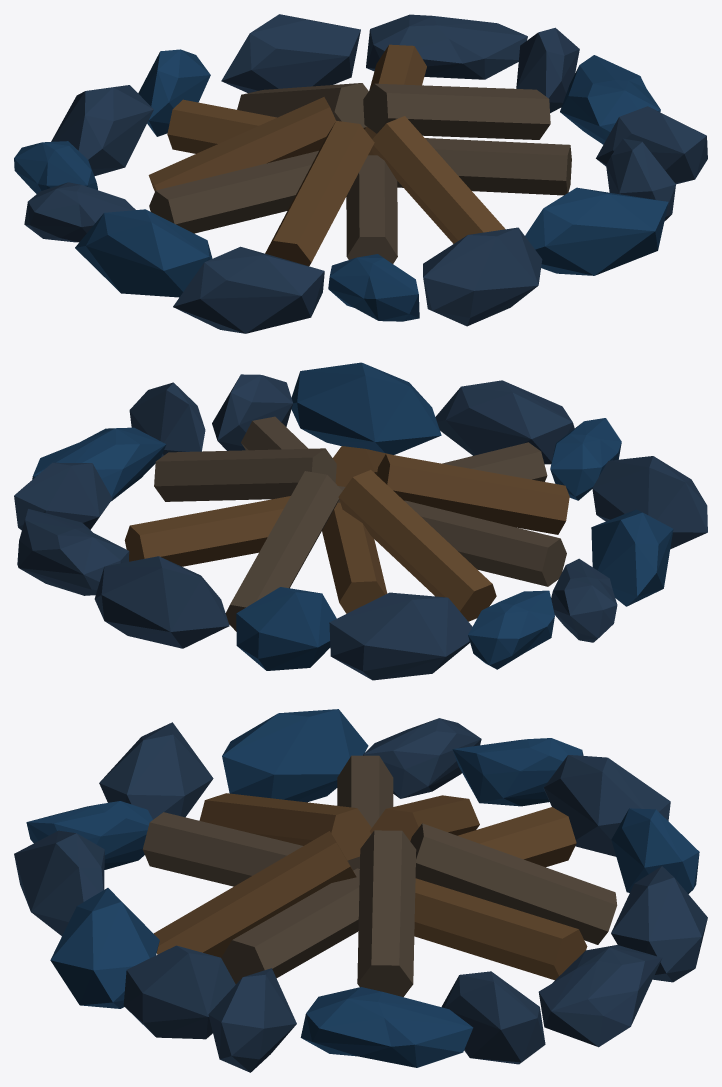
Rendered from Fire_MY.fbx.
The picture shows the model from 3 angles, top to bottom: view 1: azimuth 30°, elevation 25°; view 2: azimuth 150°, elevation 25°; view 3: azimuth 270°, elevation 25°; orthographic projection. The views are drawn at different scales.
Visible parts, largest first — view 1: Landscape.004; view 2: Landscape.004; view 3: Landscape.004.
Boxes of the visible parts, x1=… form: Landscape.004: x1=14, y1=14, x2=707, y2=333; Landscape.004: x1=14, y1=362, x2=707, y2=680; Landscape.004: x1=14, y1=709, x2=707, y2=1072.
Bounding box in the file's own units: 249 × 50.3 × 229.
